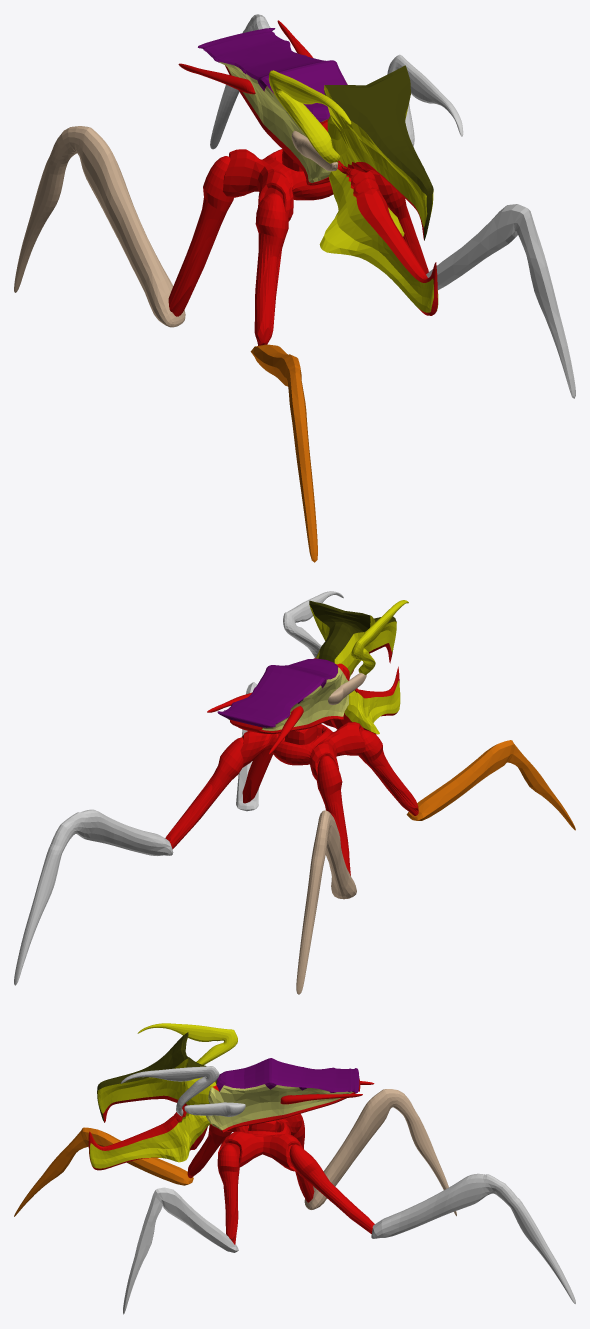
The model's file is aracnido_000015.obj.
3 renders of one model, top to bottom at view 1: azimuth 30°, elevation 25°; view 2: azimuth 150°, elevation 25°; view 3: azimuth 270°, elevation 25°, orthographic. The views are drawn at different scales.
Visible parts, largest first — view 1: ARAK-BODY-; view 2: ARAK-BODY-; view 3: ARAK-BODY-.
Boxes of the visible parts, <box> form: ARAK-BODY-: <box>14,14,575,562</box>; ARAK-BODY-: <box>14,591,575,994</box>; ARAK-BODY-: <box>14,1023,575,1314</box>.
Size of the model in its own units: 2.64 by 2.57 by 5.59.
